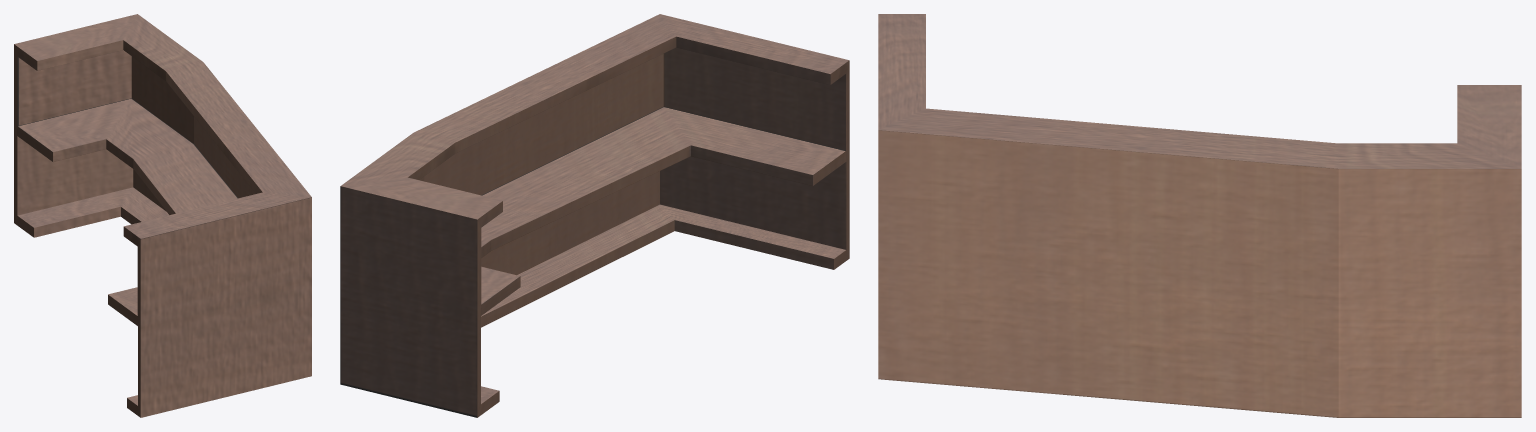
The model's file is bancao_do_hospital_1.fbx.
3 renders of one model, left to right at view 1: azimuth 30°, elevation 25°; view 2: azimuth 150°, elevation 25°; view 3: azimuth 270°, elevation 25°, orthographic. The views are drawn at different scales.
Parts seen in each view (by area): view 1: Cube; view 2: Cube; view 3: Cube.
Boxes of the visible parts, x1,y1,x2,y2 form: Cube: [14, 14, 311, 417]; Cube: [340, 14, 849, 417]; Cube: [878, 14, 1521, 417].
Bounding box in the file's own units: 2400 × 1800 × 4214.
Materials: 1 (1 with a texture image).
